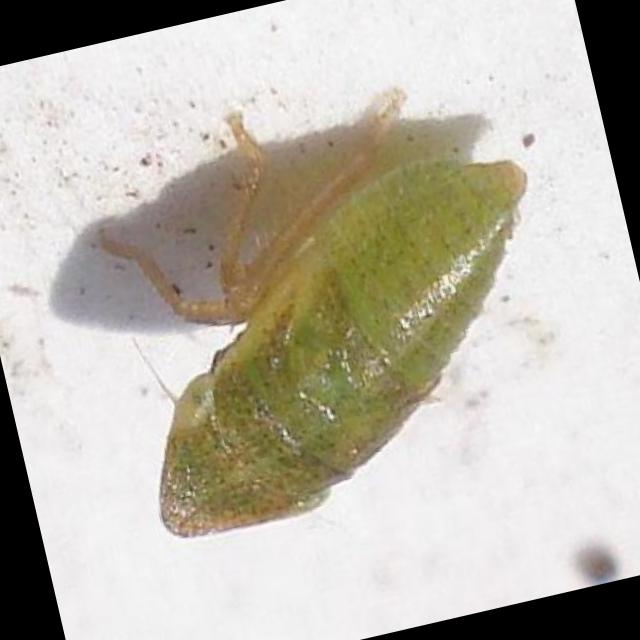green-leafhopper: (69, 41, 582, 550)
